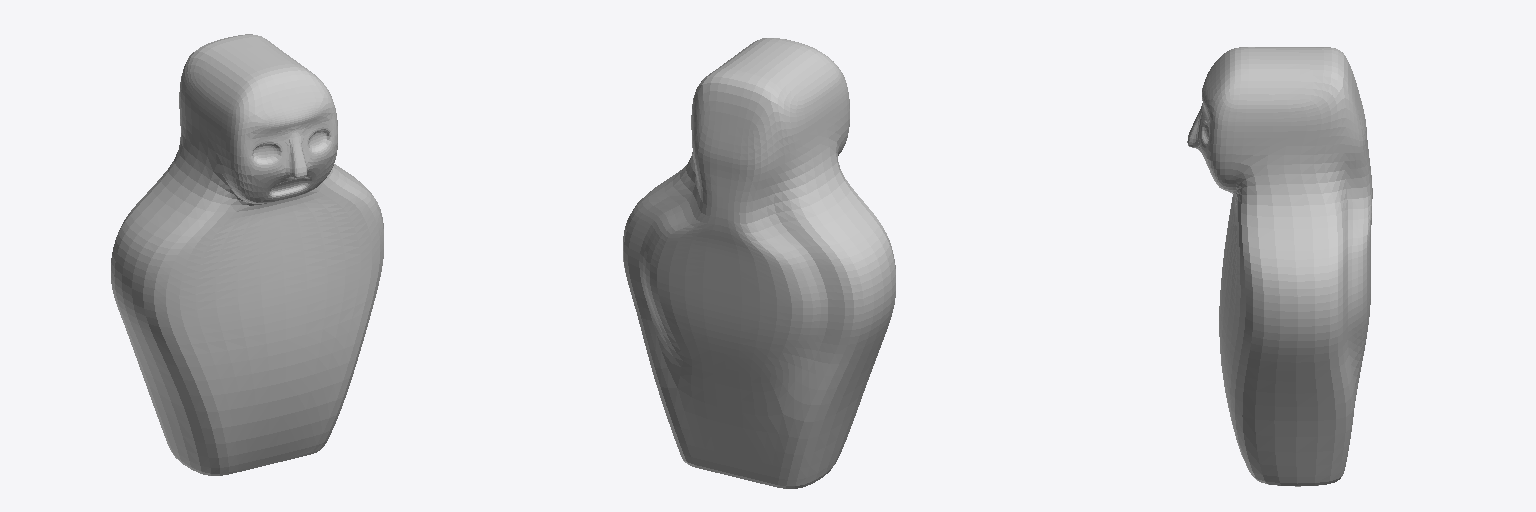
File: simulator.obj
The picture shows the model from 3 angles: view 1: azimuth 30°, elevation 25°; view 2: azimuth 150°, elevation 25°; view 3: azimuth 270°, elevation 25°; orthographic projection.
Parts seen in each view (by area): view 1: mmGroup0; view 2: mmGroup0; view 3: mmGroup0.
Boxes of the visible parts, <box> form: mmGroup0: <box>111,34,383,475</box>; mmGroup0: <box>623,38,895,488</box>; mmGroup0: <box>1187,47,1372,486</box>.
Size of the model in its own units: 21.83 by 33.45 by 14.